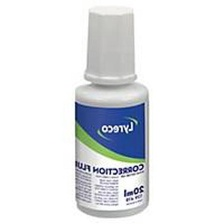correction_fluid: (72, 1, 151, 221)
